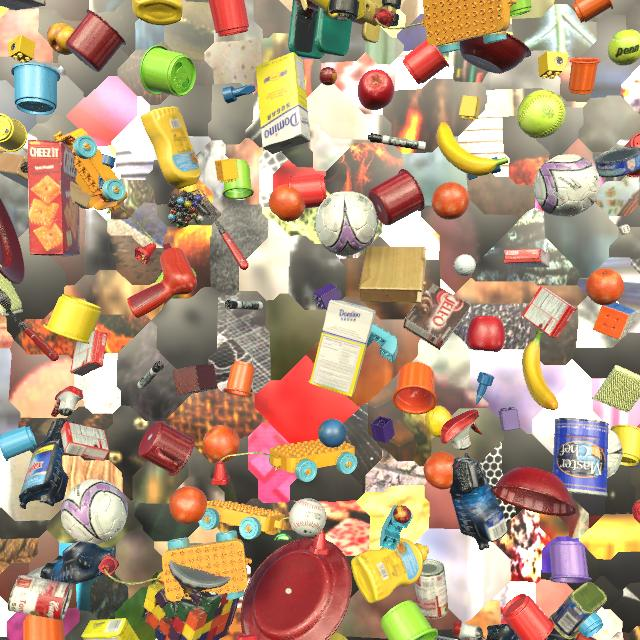ycb_002_master_chef_can: (553, 418, 609, 497)
ycb_003_cracker_box: (27, 140, 80, 257)
ycb_004_sugar_box: (308, 300, 376, 397), (256, 52, 311, 154), (81, 618, 139, 640)
ycb_005_tomato_soup_can: (8, 575, 73, 621), (414, 560, 448, 620)
ycb_006_mustard_bottle: (141, 107, 200, 195), (351, 538, 429, 603), (131, 0, 183, 25)
ycb_007_tuna_fish_can: (594, 146, 640, 178)
ycb_008_pudding_box: (403, 283, 470, 350), (0, 0, 46, 11)
ycb_009_gelatin_box: (521, 286, 577, 339), (60, 422, 110, 461), (70, 329, 108, 376), (504, 249, 550, 268)
ycb_010_potted_meat_can: (549, 582, 607, 639)
ycb_011_banana: (437, 122, 508, 176), (522, 330, 559, 410)
ycb_012_strawberry: (632, 500, 640, 523)
ycb_013_apple: (357, 69, 394, 110), (467, 316, 505, 352), (235, 632, 257, 640)
ycb_014_lemon: (425, 406, 452, 437)
ycb_015_peach: (47, 23, 75, 55)
ycb_017_orange: (169, 486, 207, 524), (432, 182, 469, 220), (203, 425, 240, 462), (586, 269, 624, 305), (269, 184, 305, 222), (424, 452, 456, 489)
